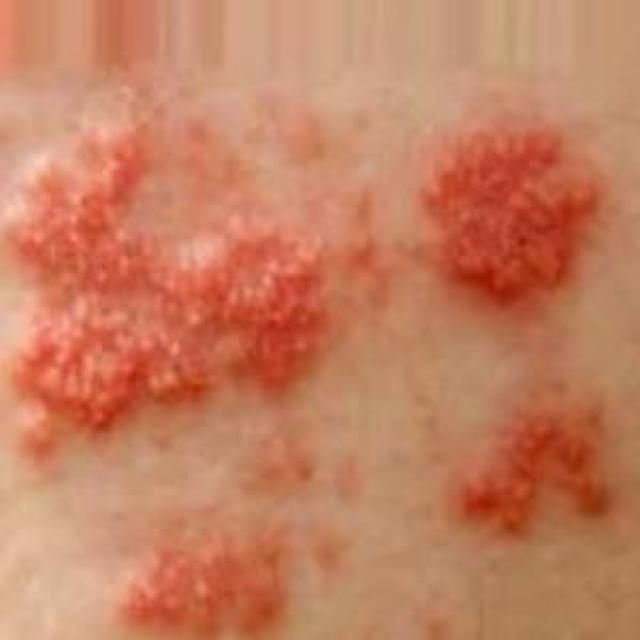Shingles: (0, 108, 326, 453), (421, 123, 604, 299), (463, 385, 619, 539), (120, 515, 286, 640)
